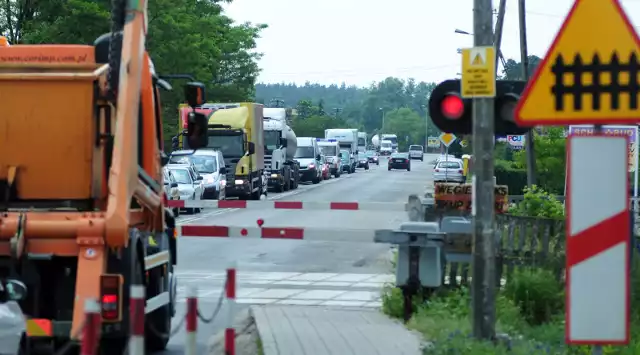a9: (546, 49, 640, 116)
